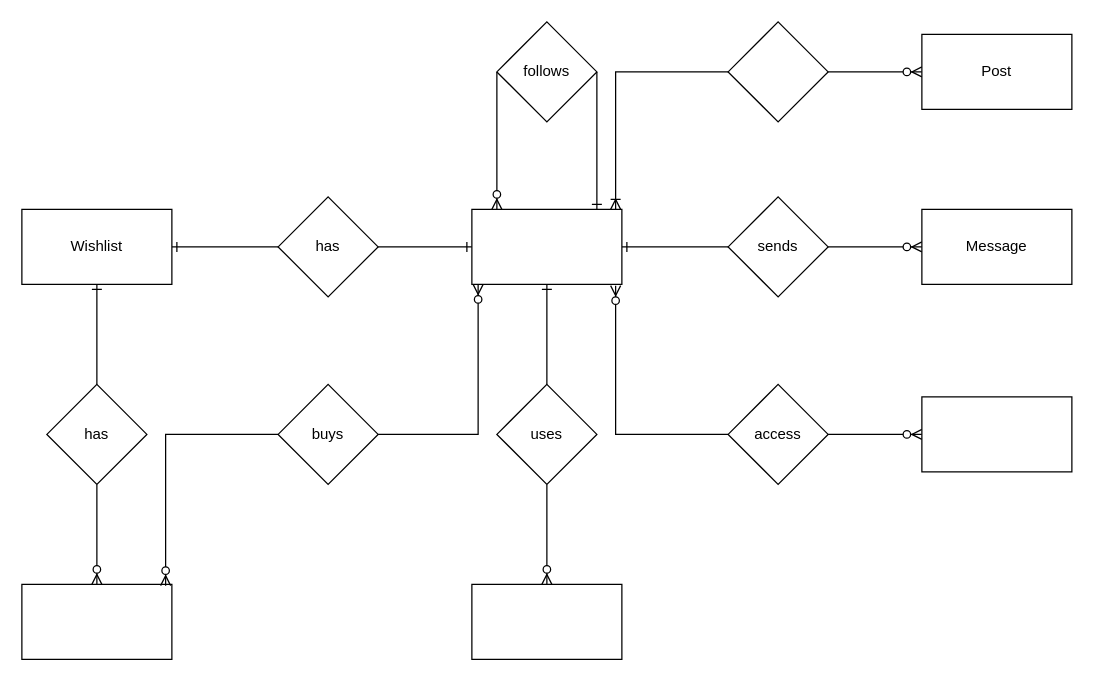
Image size: 1094x681. Some labels were removed from this diagram. Each missing label, with the centre of its shape:
Brand: (996,434)
Hashtag: (546,621)
Product: (96,621)
shares: (777,71)
User: (546,246)
